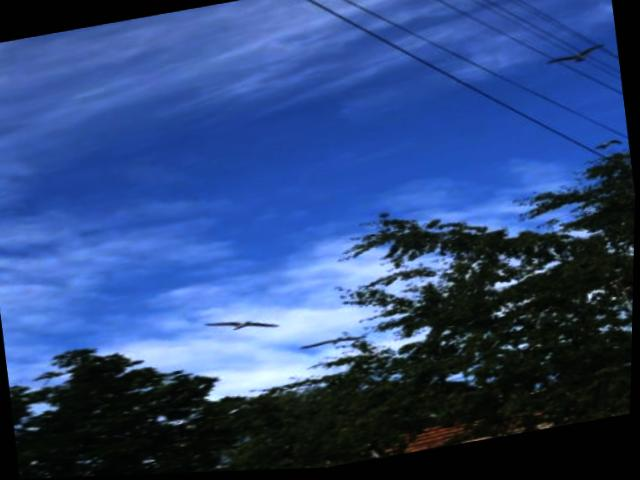bird: (192, 306, 295, 350), (536, 44, 610, 78)
